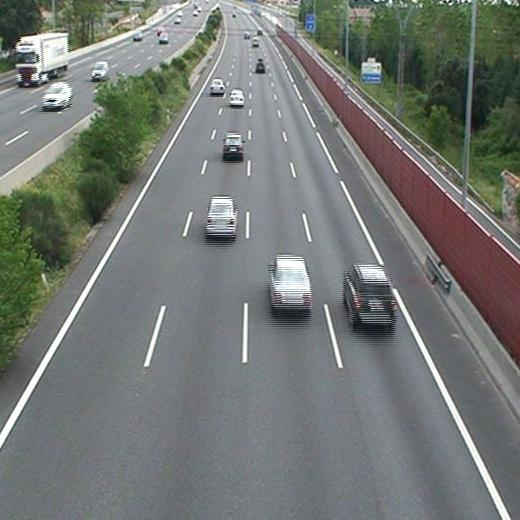car: (344, 266, 395, 323), (269, 257, 310, 307), (205, 198, 236, 236), (222, 135, 243, 155), (229, 89, 245, 105), (210, 78, 225, 93), (255, 63, 265, 72)
